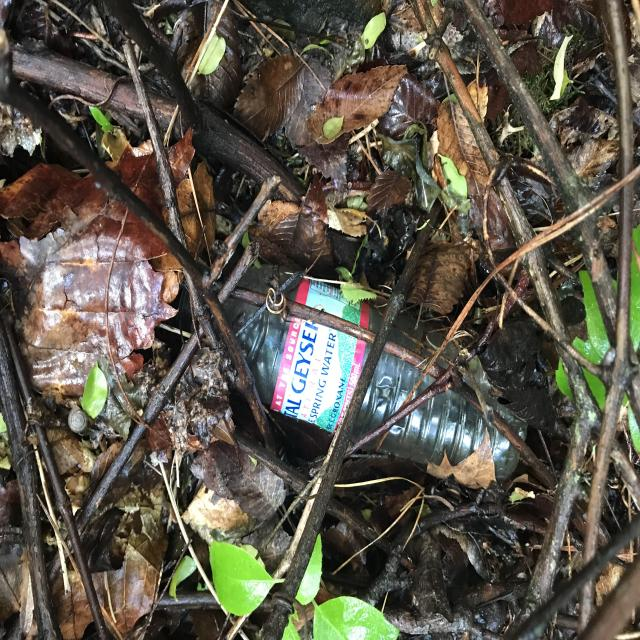litter: (197, 271, 528, 480)
